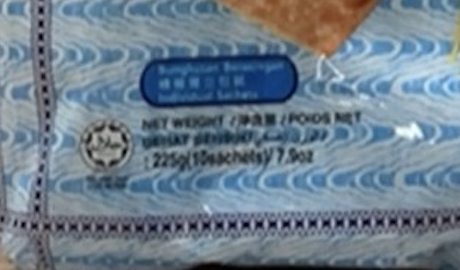halal: (92, 133, 124, 157)
